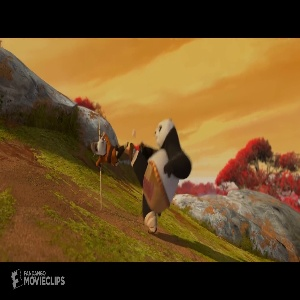po: (131, 114, 193, 234)
shifu: (90, 130, 128, 168)
